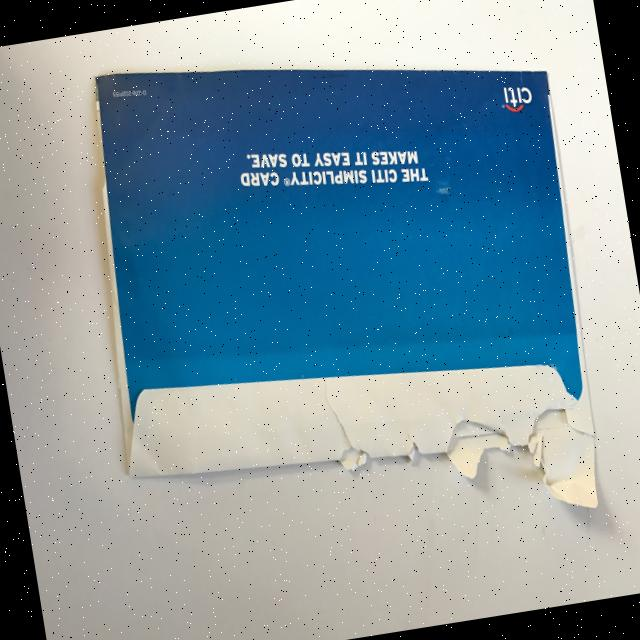paper: (65, 4, 616, 578)
